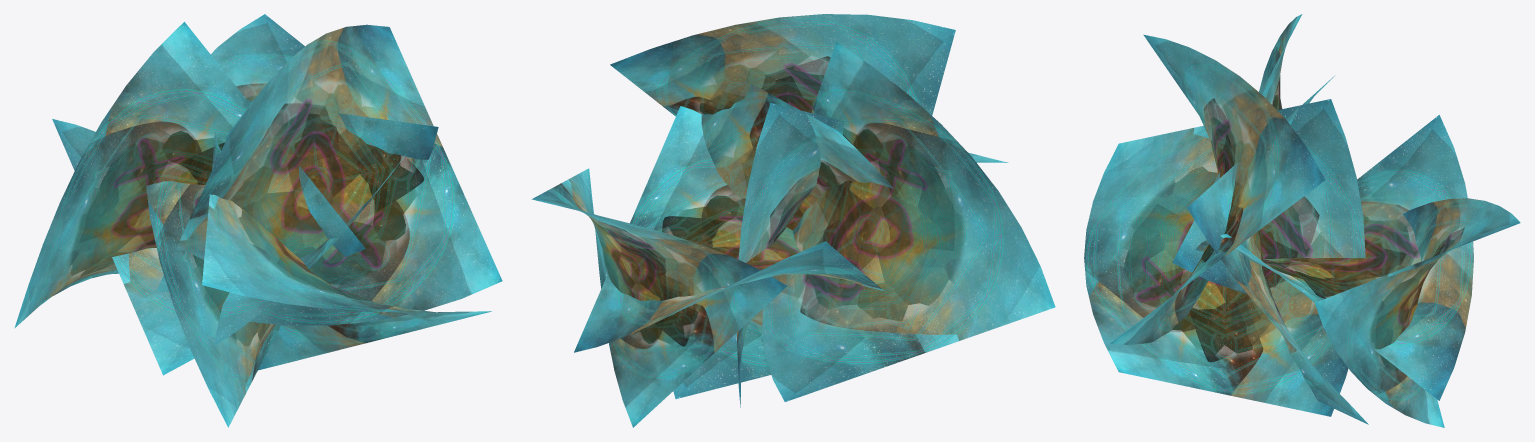
File: 0333 - uNa.glb
3 views of the same model, side by side, from view 1: azimuth 30°, elevation 25°; view 2: azimuth 150°, elevation 25°; view 3: azimuth 270°, elevation 25° (orthographic). The views are drawn at different scales.
Parts seen in each view (by area): view 1: Plane.003, Plane.005, Plane.001, Plane.002, Plane, Plane.004; view 2: Plane.005, Plane.003, Plane.004, Plane, Plane.002, Plane.001; view 3: Plane.001, Plane, Plane.003, Plane.004, Plane.002, Plane.005.
Boxes of the visible parts, x1=… form: Plane.003: x1=156, y1=24, x2=502, y2=325; Plane.005: x1=14, y1=22, x2=365, y2=328; Plane.001: x1=202, y1=66, x2=491, y2=370; Plane.002: x1=146, y1=100, x2=438, y2=427; Plane: x1=52, y1=119, x2=405, y2=375; Plane.004: x1=211, y1=14, x2=304, y2=100; Plane.005: x1=762, y1=42, x2=1055, y2=401; Plane.003: x1=610, y1=14, x2=955, y2=116; Plane.004: x1=532, y1=168, x2=787, y2=427; Plane: x1=574, y1=106, x2=883, y2=352; Plane.002: x1=673, y1=83, x2=893, y2=398; Plane.001: x1=737, y1=103, x2=1008, y2=407; Plane.001: x1=1084, y1=99, x2=1365, y2=416; Plane: x1=1195, y1=115, x2=1473, y2=400; Plane.003: x1=1110, y1=34, x2=1325, y2=344; Plane.004: x1=1314, y1=198, x2=1520, y2=427; Plane.002: x1=1187, y1=76, x2=1368, y2=424; Plane.005: x1=1172, y1=14, x2=1302, y2=301.
Bounding box in the file's own units: 3.45 × 2.86 × 3.1.
6 materials, 6 textured.
